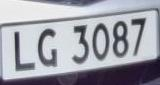0: (89, 18, 111, 66)
3: (69, 19, 92, 70)
7: (128, 12, 148, 62)
8: (110, 15, 131, 63)
G: (36, 23, 61, 76)
L: (9, 24, 38, 77)
